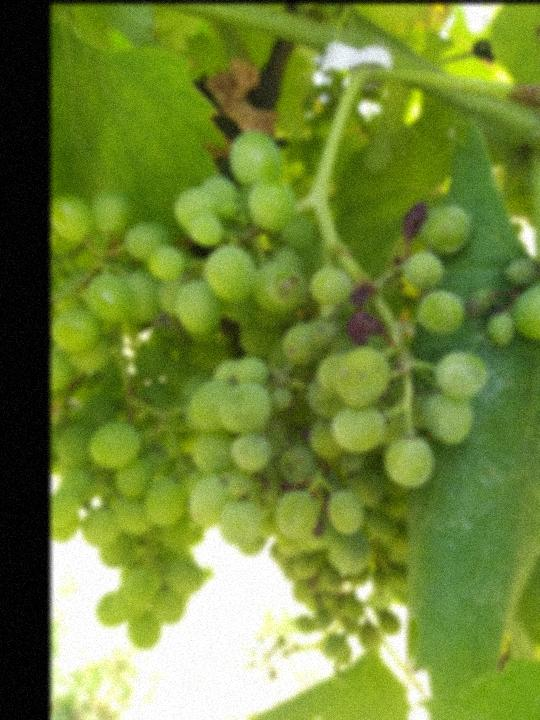grape: (148, 128, 492, 576)
